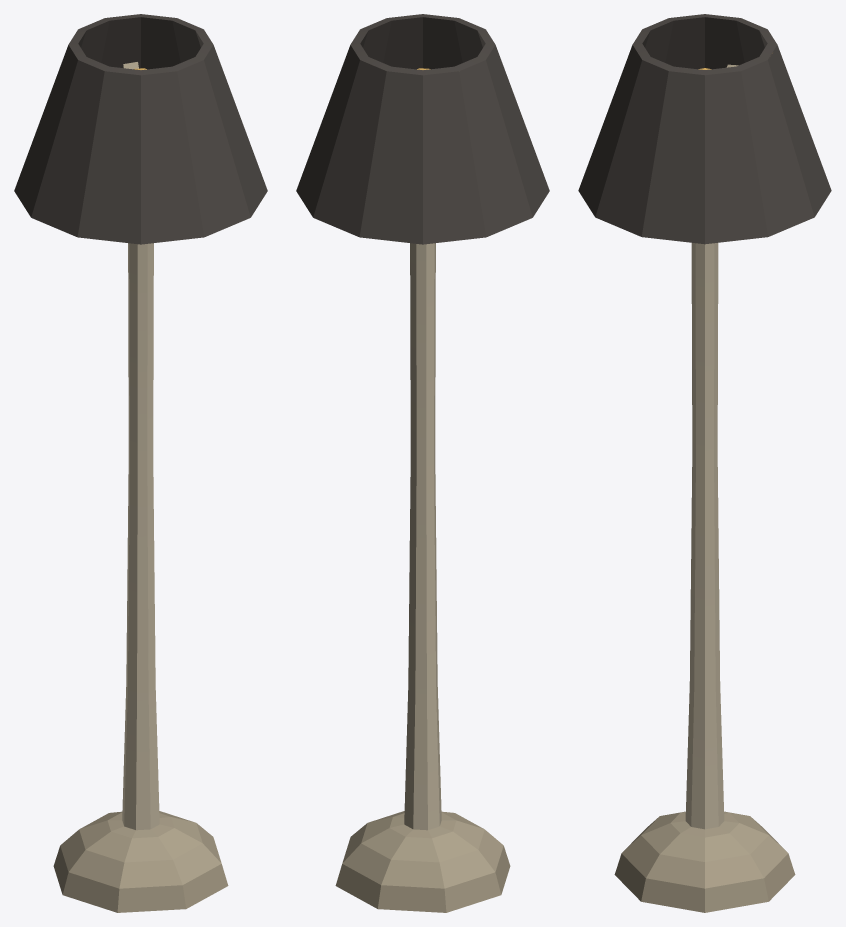
File: LampLarge.fbx
The picture shows the model from 3 angles, left to right: view 1: azimuth 30°, elevation 25°; view 2: azimuth 150°, elevation 25°; view 3: azimuth 270°, elevation 25°; orthographic projection.
Parts seen in each view (by area): view 1: Big_Lamp; view 2: Big_Lamp; view 3: Big_Lamp.
Part boxes in pixels (left/top/right/bottom): Big_Lamp: left=14, top=14, right=267, bottom=912; Big_Lamp: left=296, top=14, right=549, bottom=912; Big_Lamp: left=578, top=14, right=831, bottom=912.
Bounding box in the file's own units: 48.15 × 174 × 48.15.
Materials: 1 (1 with a texture image).
